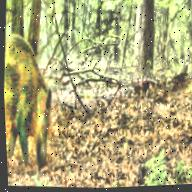boar: (1, 10, 73, 189)
